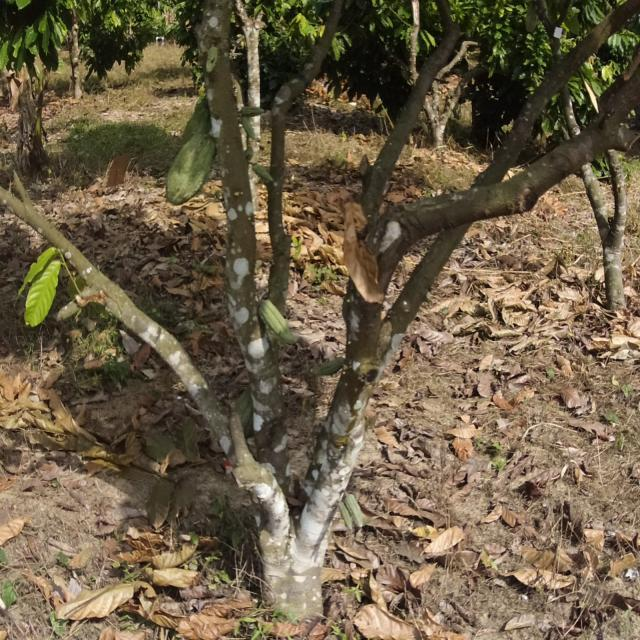Immature: (332, 484, 376, 549), (254, 157, 283, 199), (242, 103, 270, 143)
Mature_Unripe: (148, 131, 228, 211), (251, 297, 307, 361)
